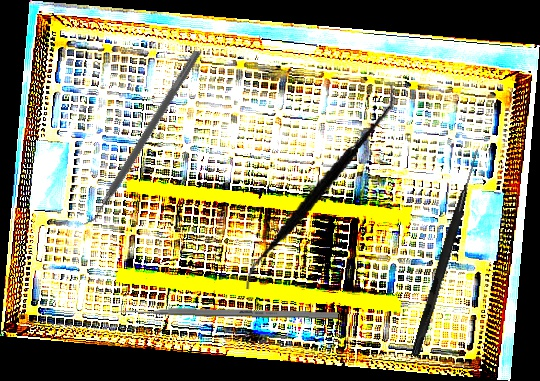Hook Surgical: (410, 147, 482, 358)
Pusher: (108, 307, 339, 319)
Spatula Surgical: (242, 69, 397, 305), (79, 45, 202, 232)
